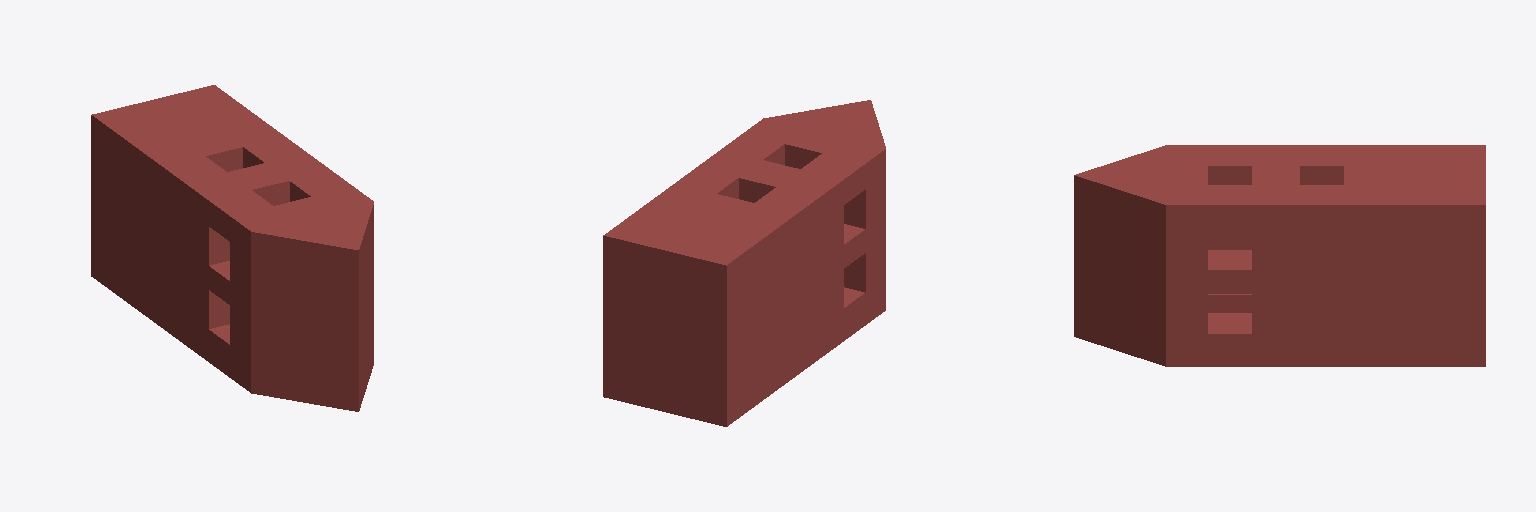
File: tinker.obj
3 views of the same model, side by side, from view 1: azimuth 30°, elevation 25°; view 2: azimuth 150°, elevation 25°; view 3: azimuth 270°, elevation 25° (orthographic).
Visible parts, largest first — view 1: obj_0; view 2: obj_0; view 3: obj_0.
Part boxes in pixels (x1,y1,x2,y2): obj_0: (91, 85, 373, 411); obj_0: (603, 100, 885, 426); obj_0: (1074, 145, 1485, 366).
Size of the model in its own units: 20 by 25.11 by 58.